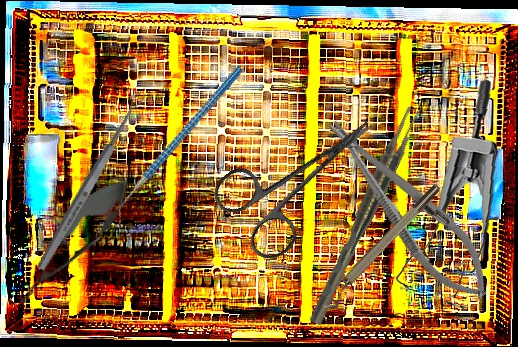Chopper: (80, 64, 279, 226)
Fixation Ring: (315, 181, 449, 314)
Iris Scissors: (206, 86, 403, 268)
Micro Scissor: (5, 165, 142, 317)
Needle Holder: (312, 104, 505, 314)
Speculum: (382, 78, 509, 314)
Surgical Spoon: (34, 92, 147, 272)
Tissue Forceps: (302, 104, 425, 326)
